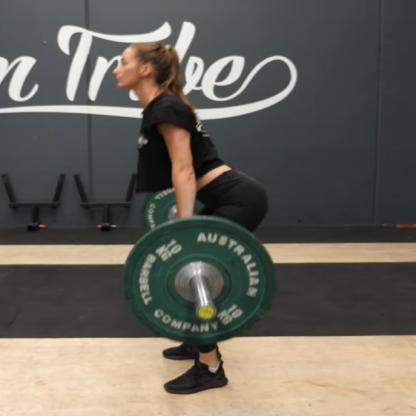Barbell: (112, 212, 281, 350)
